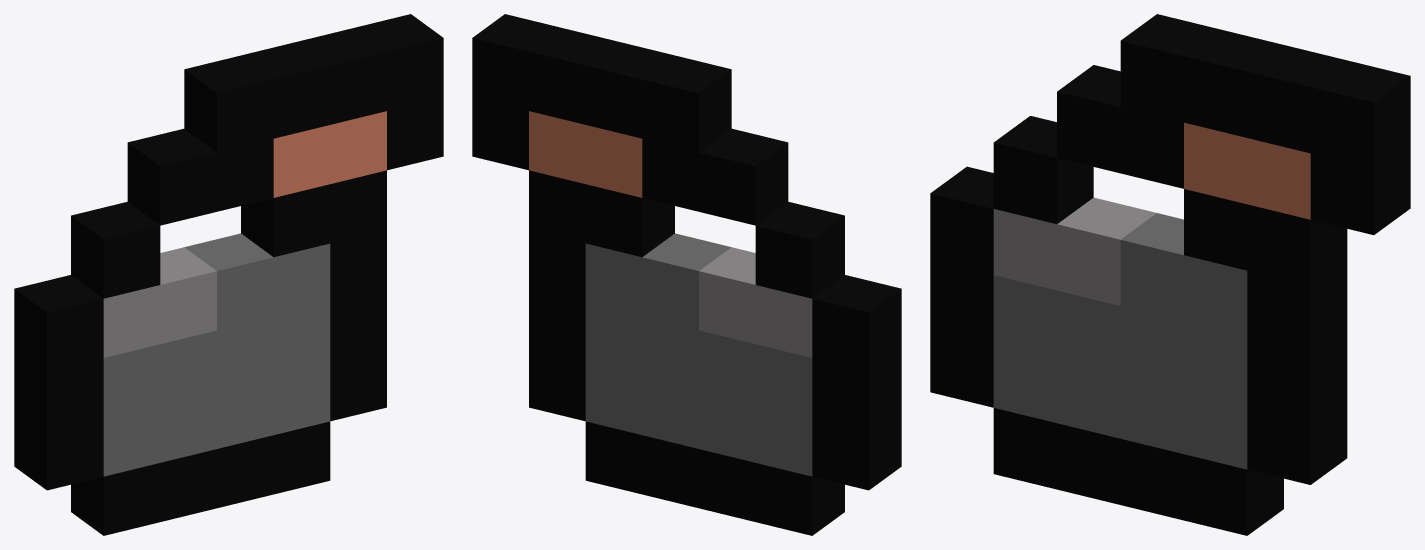
The model's file is Splash Invisibility Potion.glb.
3 renders of one model, left to right at view 1: azimuth 30°, elevation 25°; view 2: azimuth 150°, elevation 25°; view 3: azimuth 330°, elevation 25°, orthographic. The views are drawn at different scales.
Visible parts, largest first — view 1: generated(Clone); view 2: generated(Clone); view 3: generated(Clone).
Boxes of the visible parts, box(x1,y1,x2,y2) form: generated(Clone): box(14, 14, 443, 535); generated(Clone): box(472, 14, 901, 535); generated(Clone): box(930, 14, 1410, 535).
Size of the model in its own units: 7 by 7 by 1.
Materials: 1 (1 with a texture image).
